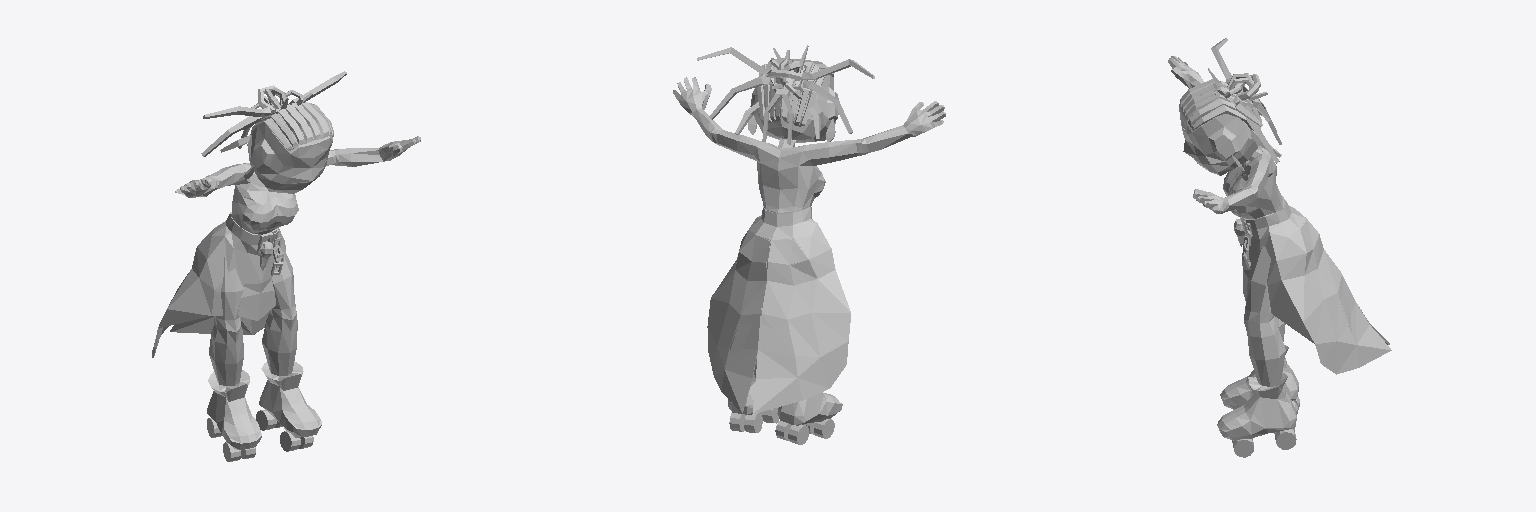
The model's file is bruja_000183.obj.
3 renders of one model, left to right at view 1: azimuth 30°, elevation 25°; view 2: azimuth 150°, elevation 25°; view 3: azimuth 270°, elevation 25°, orthographic.
Parts seen in each view (by area): view 1: Bruja_Plane.001; view 2: Bruja_Plane.001; view 3: Bruja_Plane.001.
Boxes of the visible parts, x1=… form: Bruja_Plane.001: x1=152, y1=71, x2=420, y2=461; Bruja_Plane.001: x1=673, y1=45, x2=945, y2=444; Bruja_Plane.001: x1=1168, y1=38, x2=1391, y2=457.
Size of the model in its own units: 11.73 by 16.19 by 8.87.